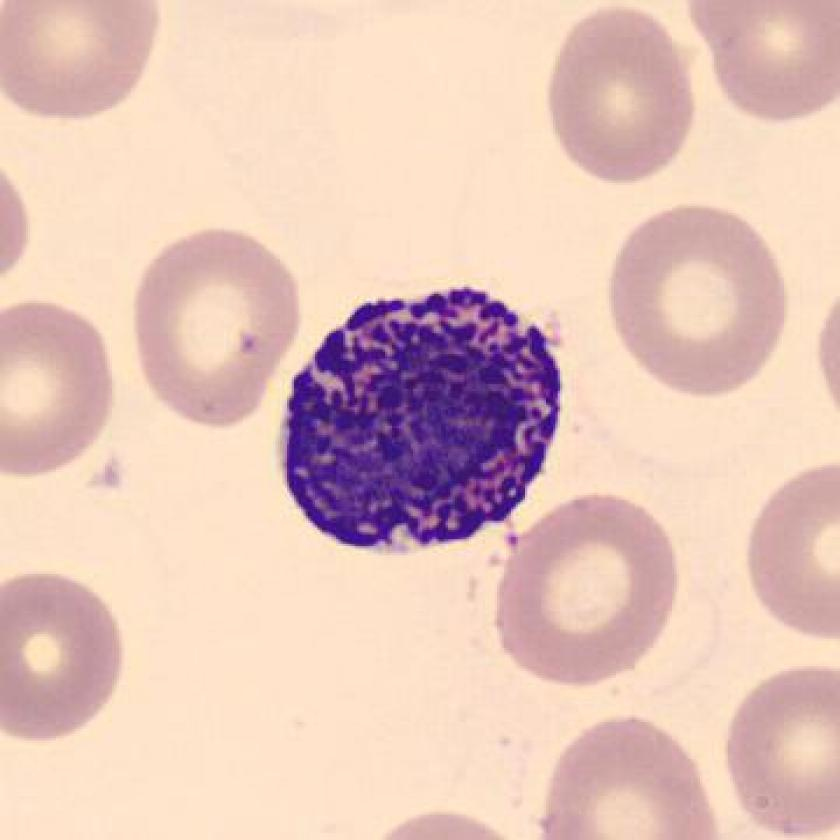basophil: (267, 276, 573, 566)
